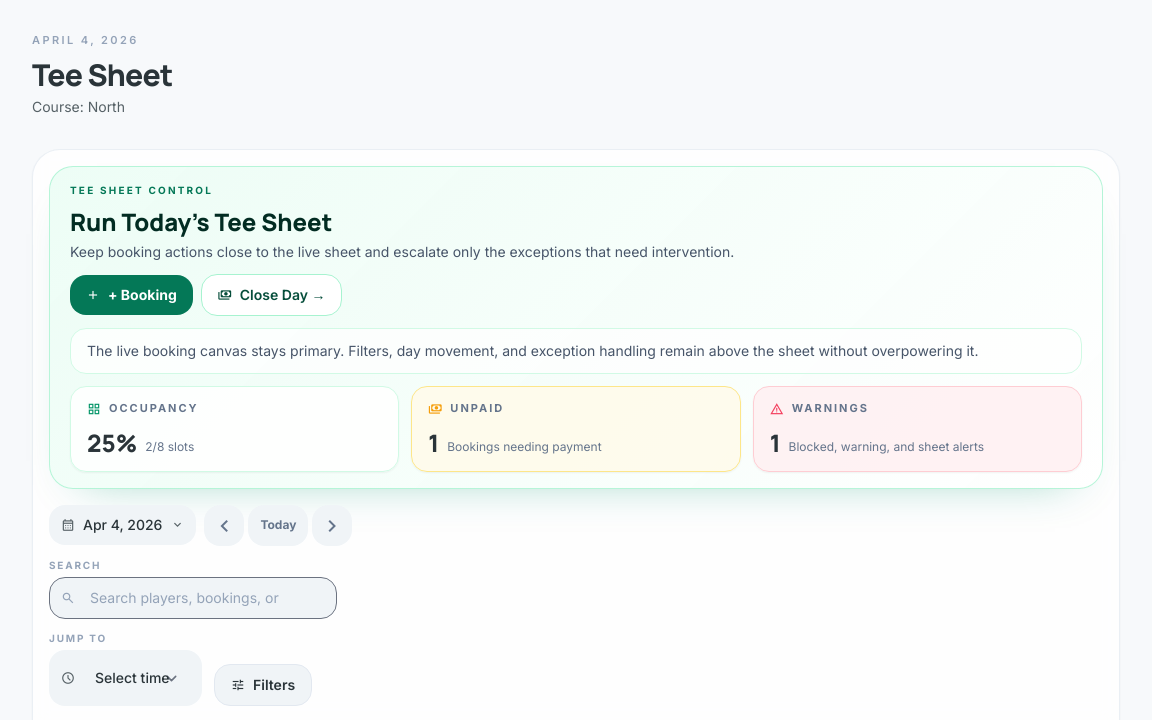
Test: AdminGolfTeeSheetPage › date navigation › next and previous are symmetric — two forward then two back returns to today
Click the button named "Next day" at coordinates (332, 525), box [312,504,352,546]
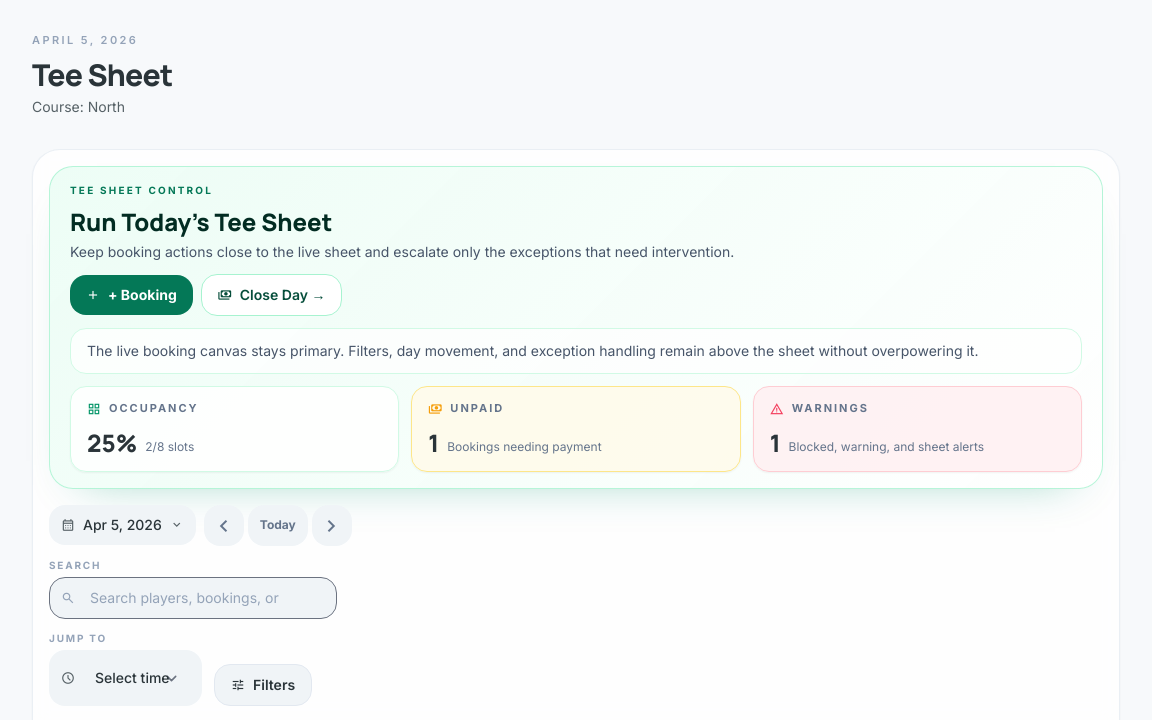
Click the button named "Next day" at coordinates (332, 525), box [312,504,352,546]
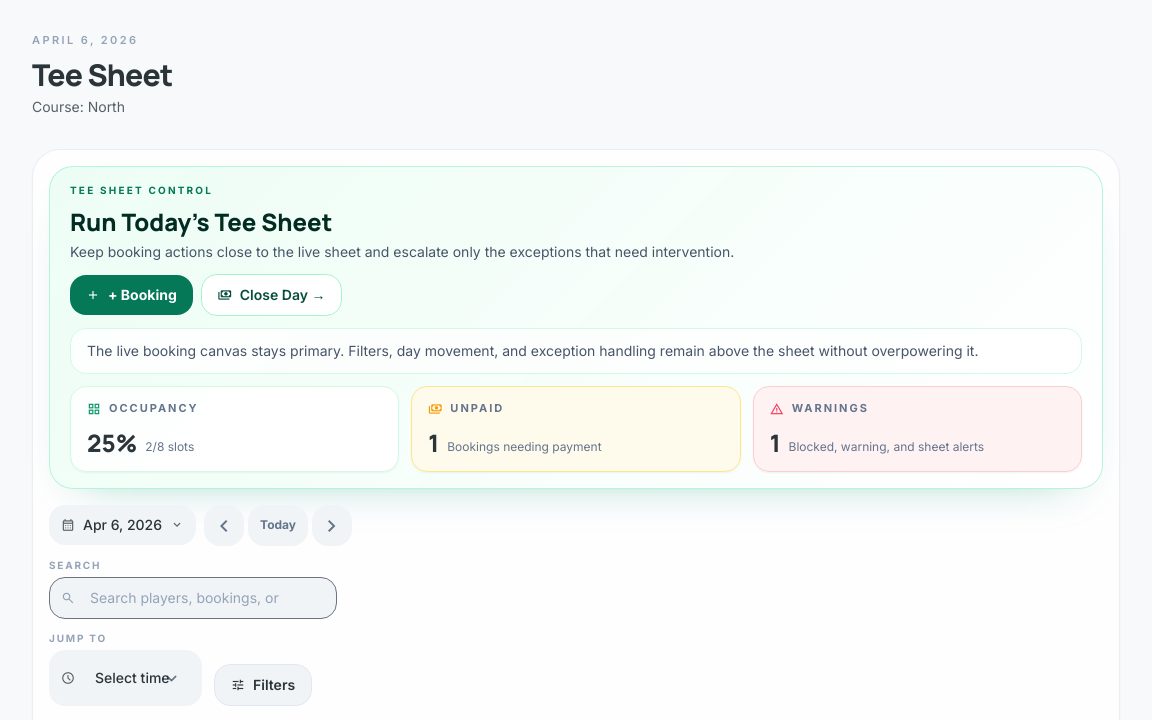
Click the button named "Previous day" at coordinates (224, 525), box [204,504,244,546]
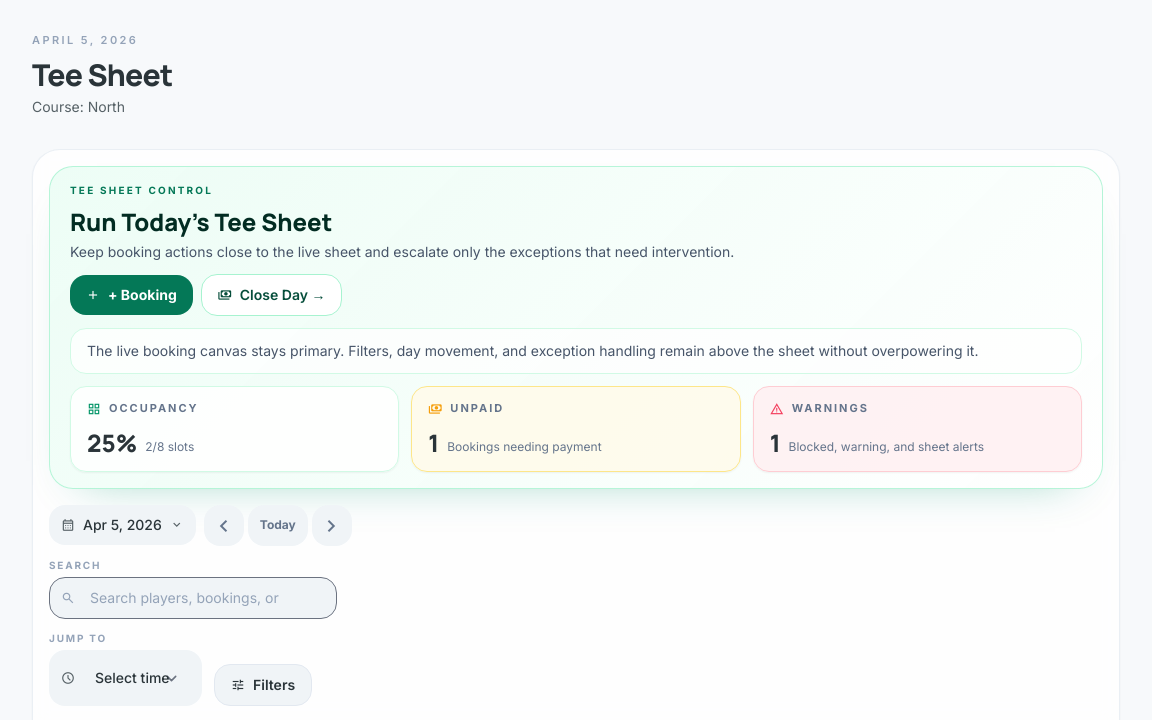
Click the button named "Previous day" at coordinates (224, 525), box [204,504,244,546]
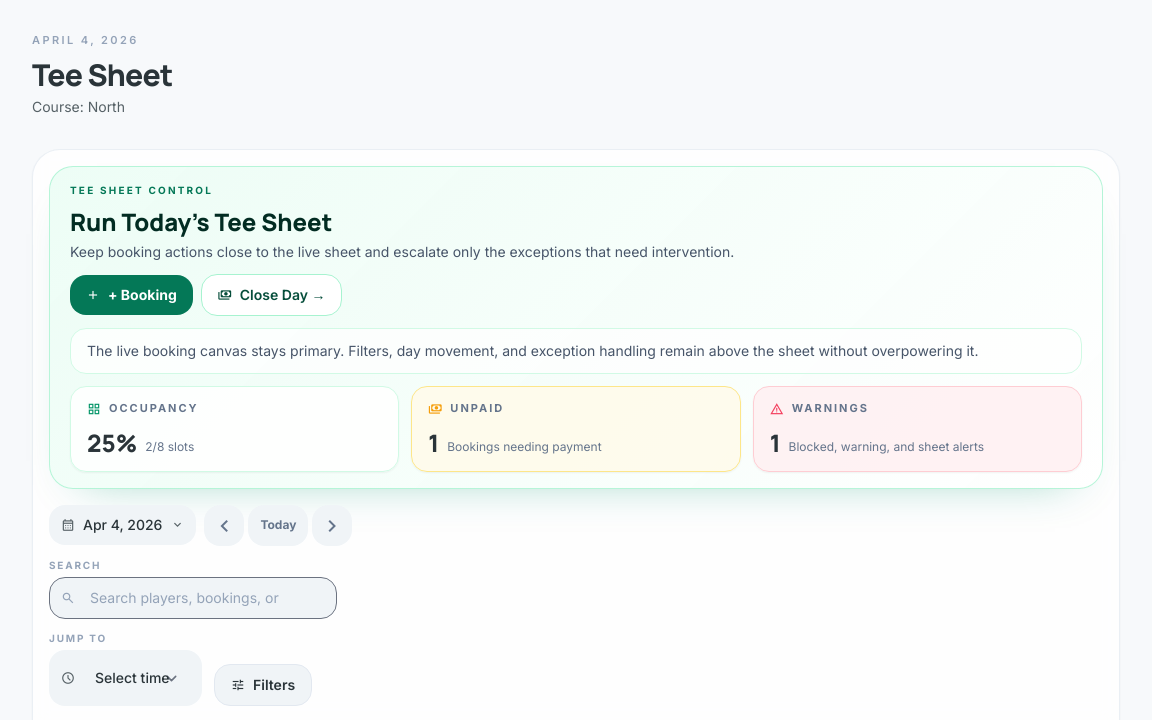
Now the text "April 4, 2026" is shown, box [32,33,139,47]
